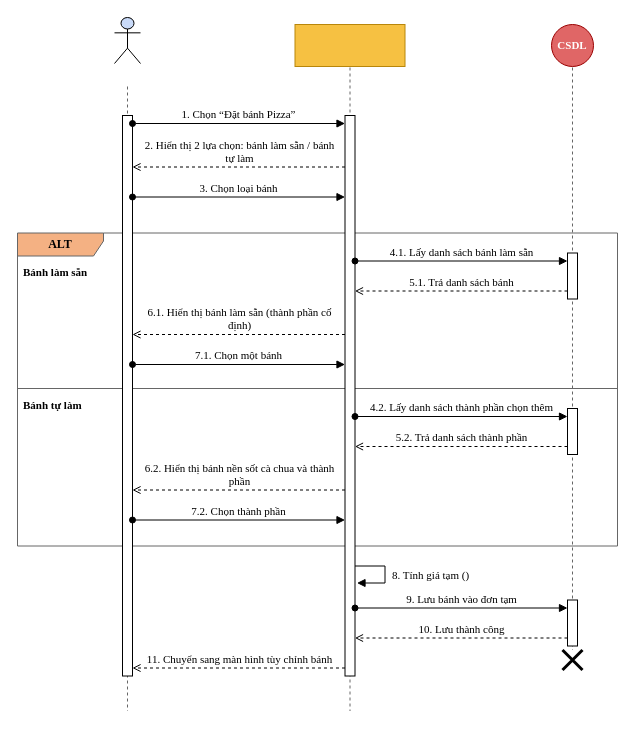
The diagram is 636 pixels wide and 730 high, and some of its shapes have lost their labels. The shapes that lost their labels are listed below. From the top down, each one's centre as x and y in pixels, then its label:
At point (127, 40): "Khách hàng".
At point (349, 45): "HỆ THỐNG".
